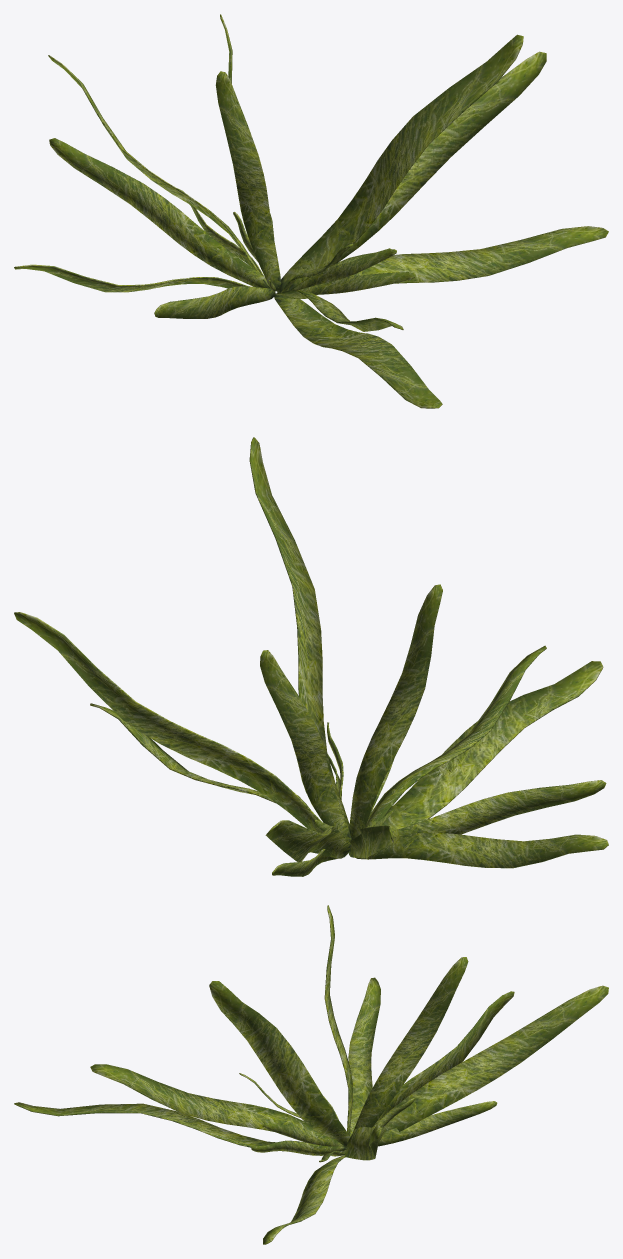
The model's file is SeaGrass.fbx.
3 views of the same model, one above another, from view 1: azimuth 30°, elevation 25°; view 2: azimuth 150°, elevation 25°; view 3: azimuth 270°, elevation 25° (orthographic). The views are drawn at different scales.
Visible parts, largest first — view 1: Plane.003; view 2: Plane.003; view 3: Plane.003.
Part boxes in pixels (box(x1,y1,x2,y2)): Plane.003: box(14, 14, 608, 408); Plane.003: box(14, 437, 608, 876); Plane.003: box(14, 905, 608, 1244).
Size of the model in its own units: 522 by 260 by 581.
1 material, 1 textured.
